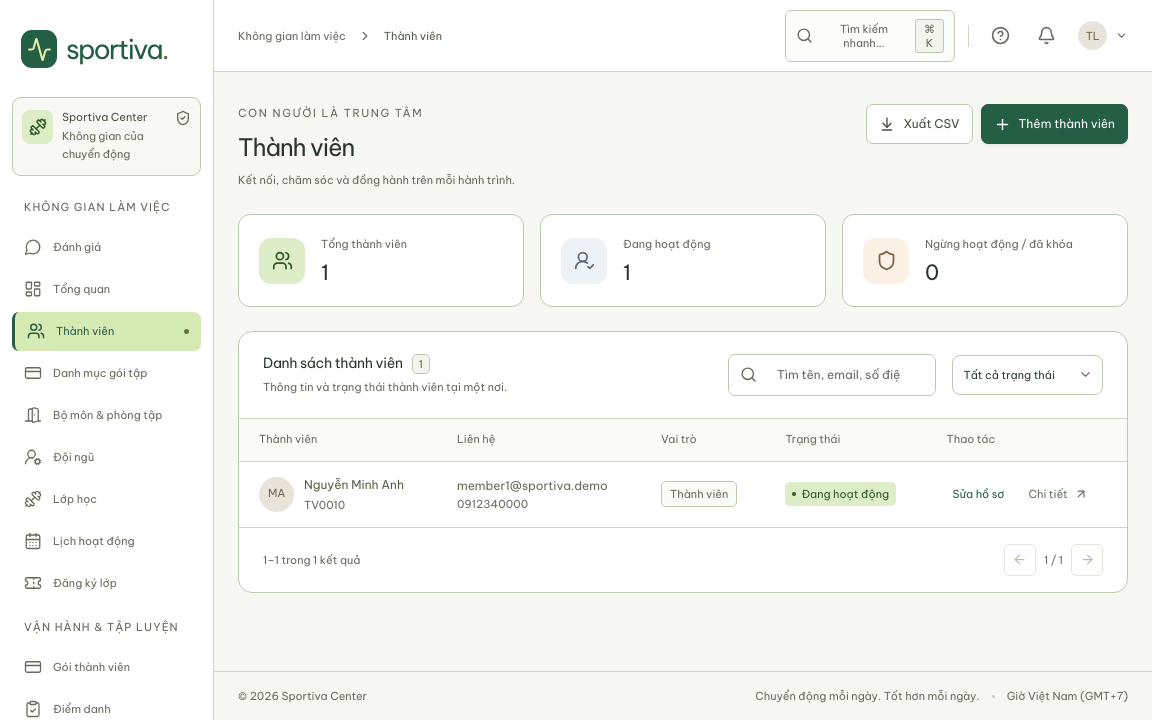
Scenario: Quản lý thành viên › updates account status from profile only after confirmation
expect the heading "Thành viên" is shown: met, box x1=238 y1=132 x2=354 y2=162
Click the button "MA Nguyễn Minh Anh TV0010".
click(332, 494)  # box x1=259 y1=474 x2=404 y2=515
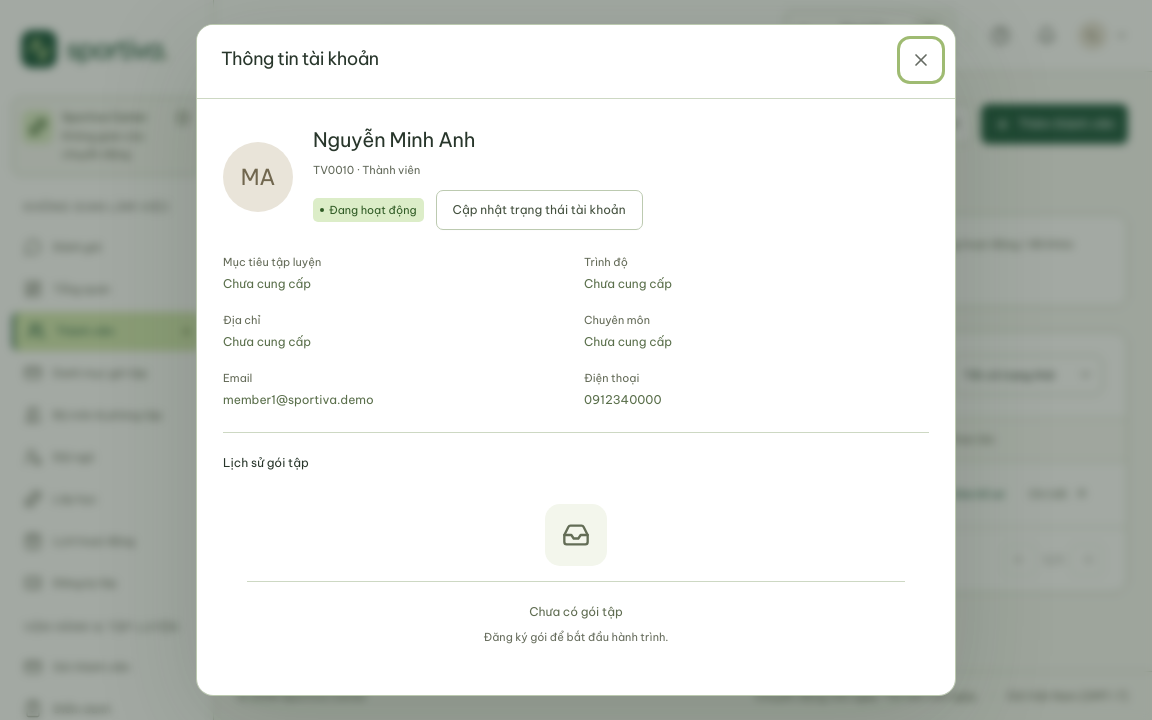
Click the button "Cập nhật trạng thái tài khoản".
click(539, 210)  # box x1=436 y1=190 x2=643 y2=230
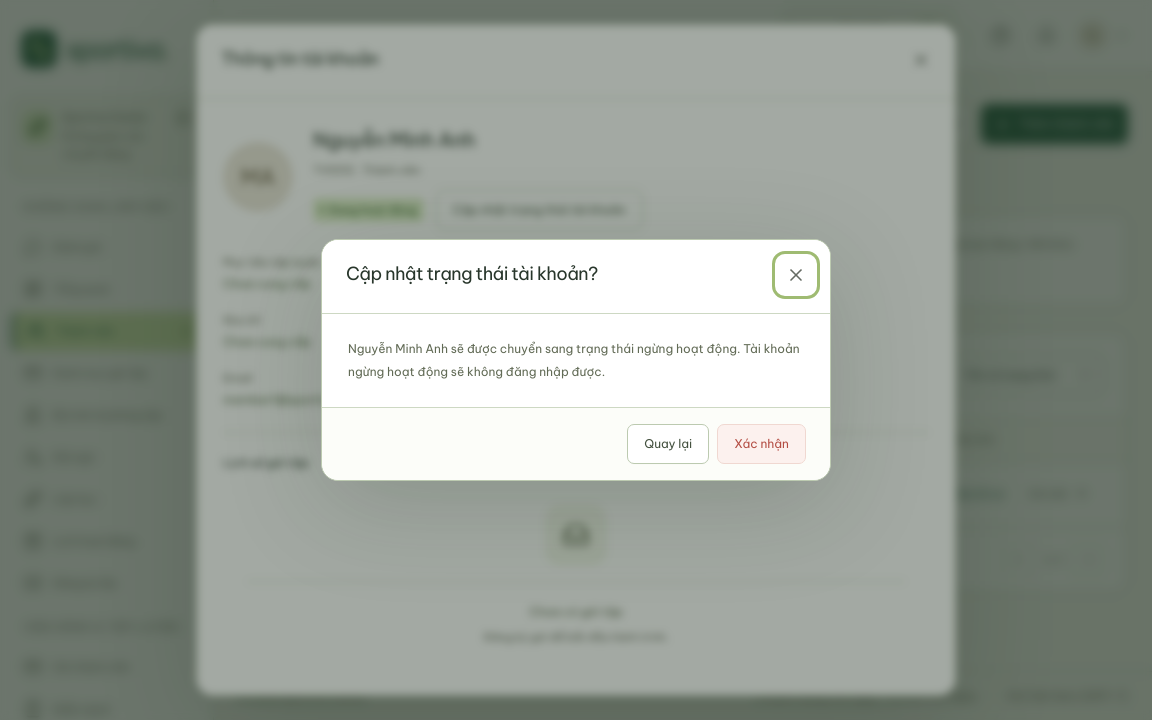
Click the button "Quay lại".
click(668, 444)  # box x1=627 y1=424 x2=709 y2=464
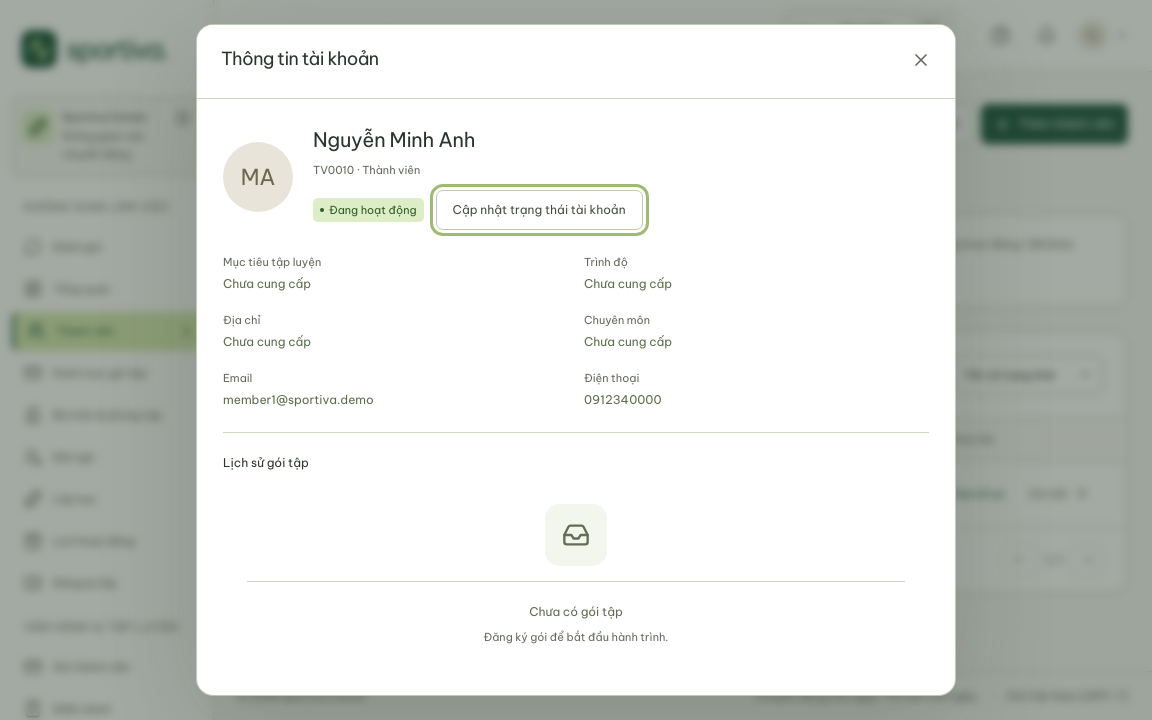
expect the dialog "Thông tin tài khoản" is shown: met
Click the button "Cập nhật trạng thái tài khoản".
click(539, 210)  # box x1=436 y1=190 x2=643 y2=230
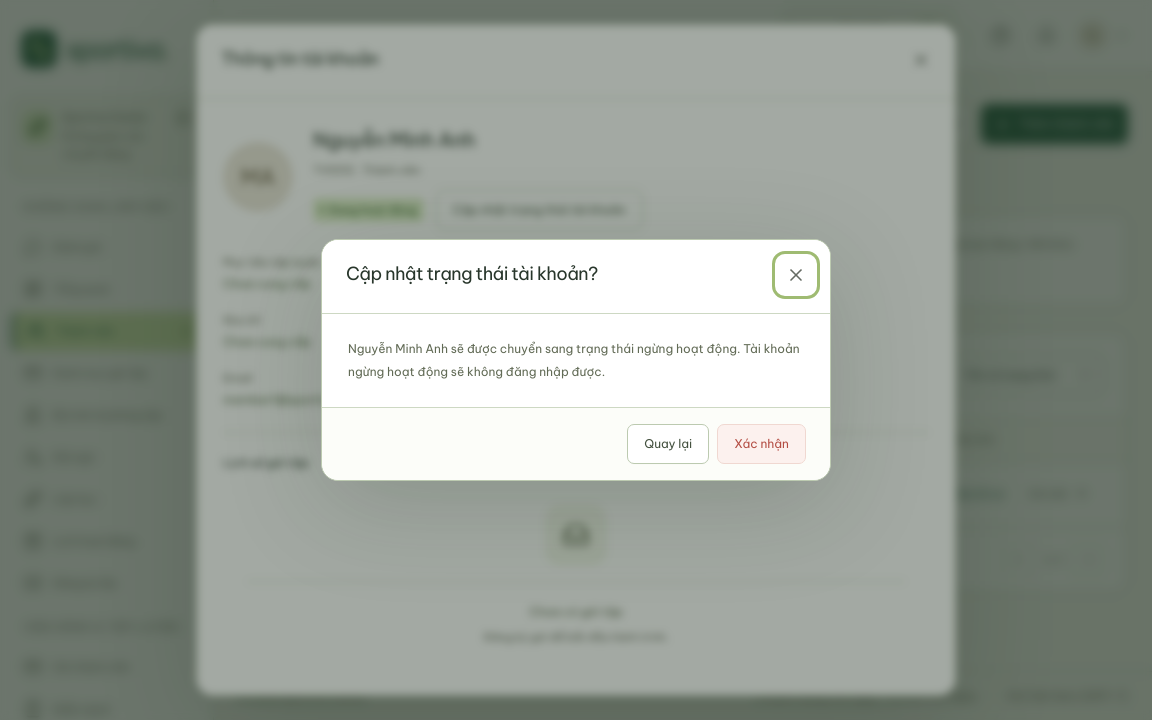
Click the button "Xác nhận".
click(762, 444)  # box x1=717 y1=424 x2=806 y2=464
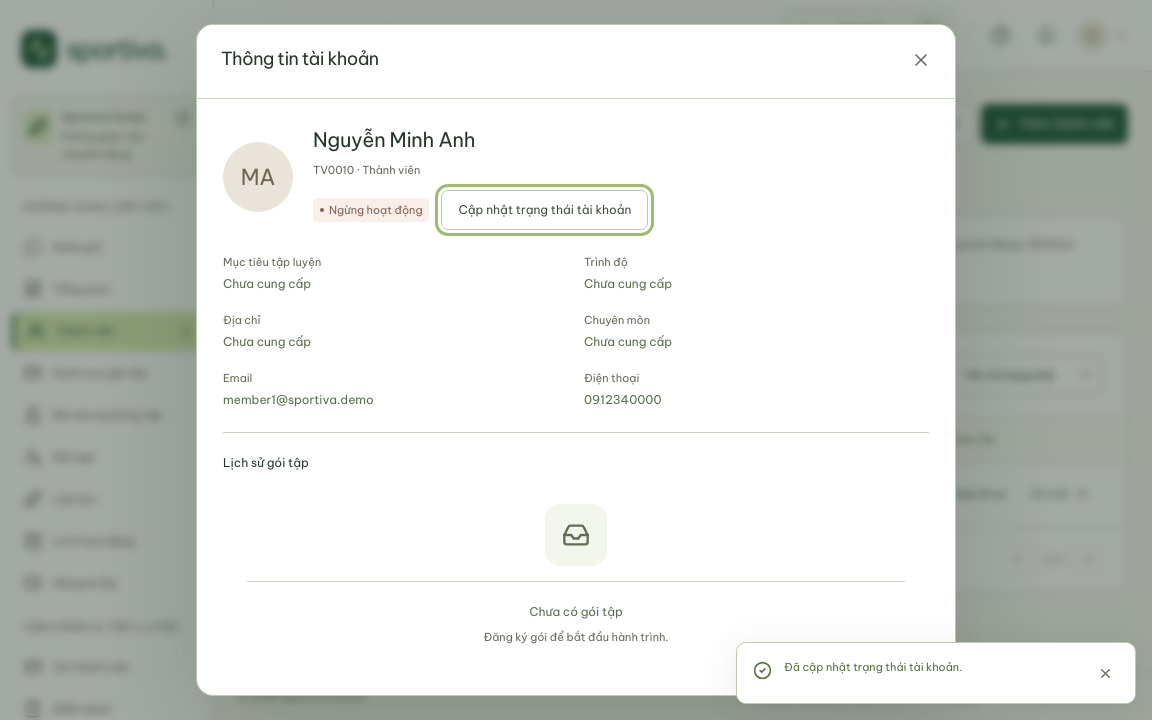
expect the text "Ngừng hoạt động" is shown: met, box x1=313 y1=198 x2=430 y2=222
